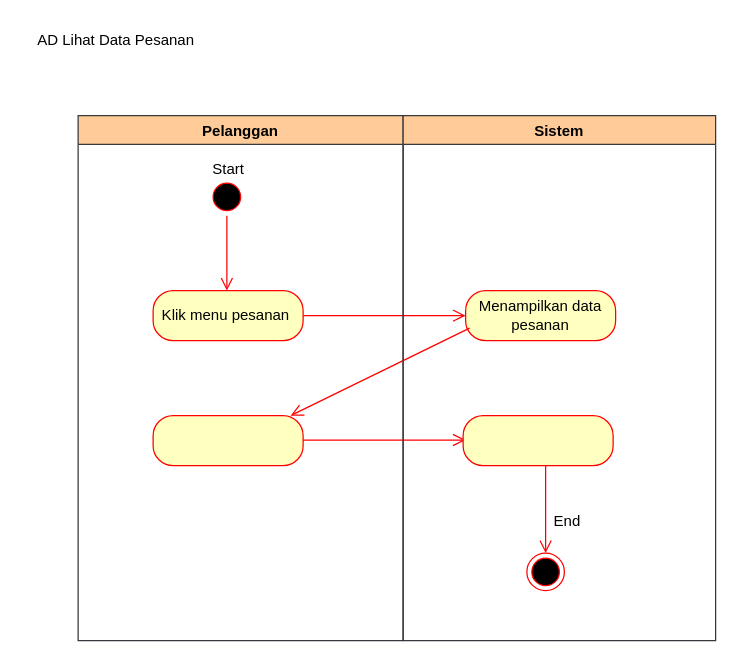
This 738x663 diagram has some shape labels left out. Each missing label, with the centre of its shape:
Menampilkan data detail pesanan: (537,440)
pilih link detail pesanan: (227,440)
